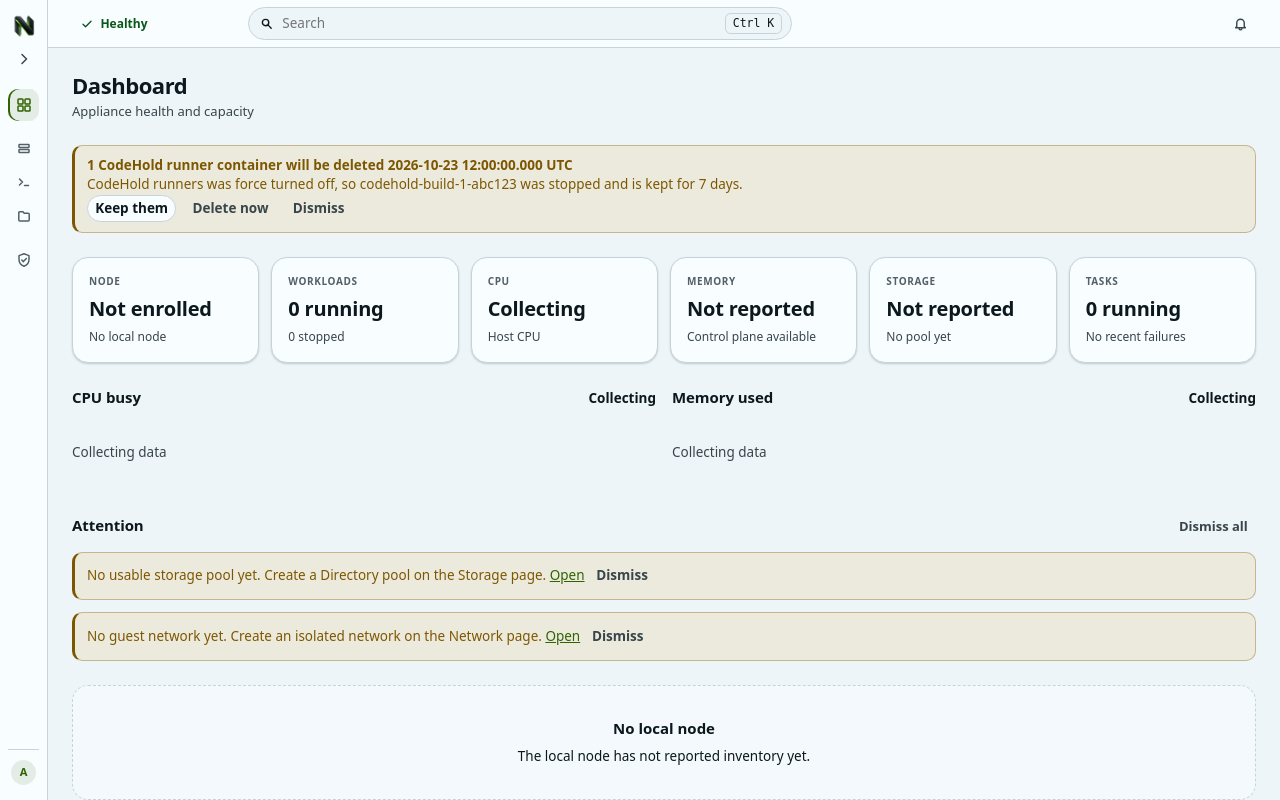
Test case: CodeHold runners › can be dismissed
Step 1. Click the button "Dismiss" below "codehold-build-1-abc123" → click(319, 209), box [285,195,353,222]
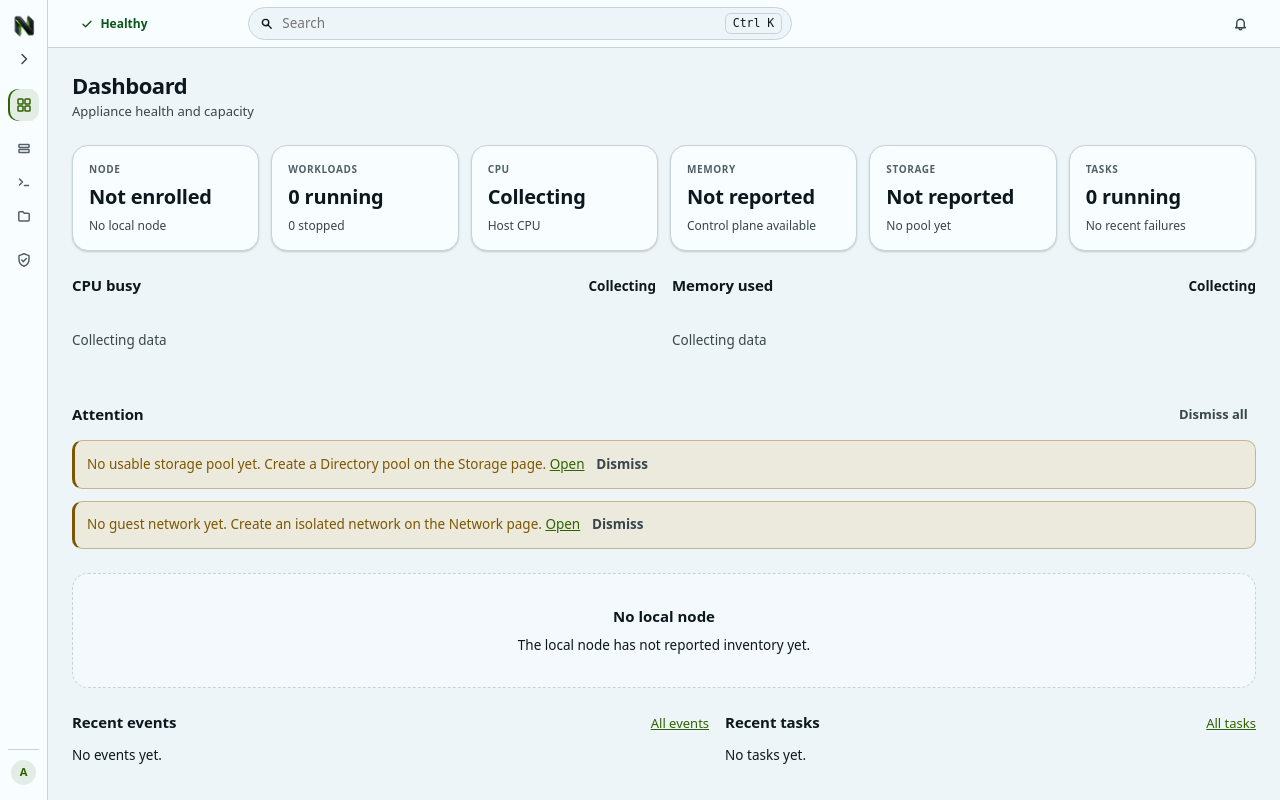
Now the text "will be deleted" is gone
